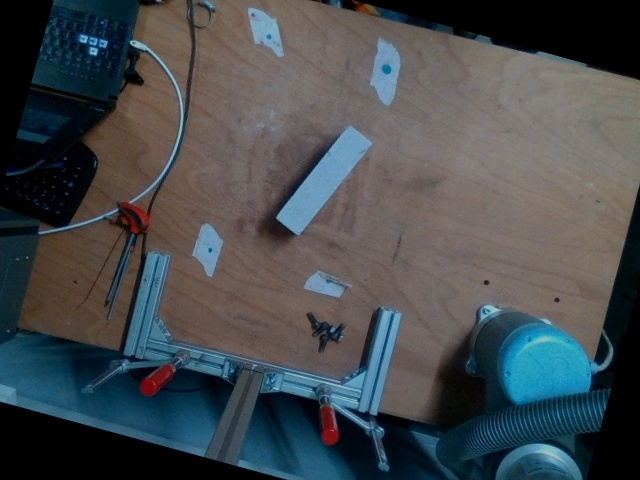brick-side: (275, 125, 371, 236)
